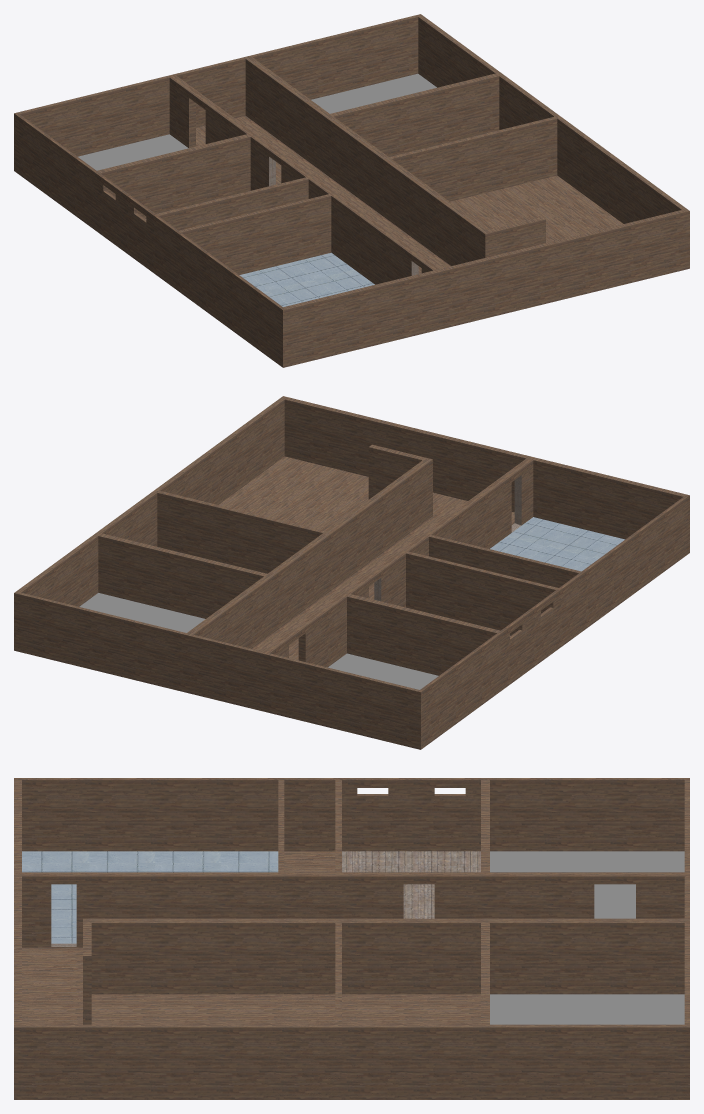
The model's file is housea.FBX.
The picture shows the model from 3 angles, top to bottom: view 1: azimuth 30°, elevation 25°; view 2: azimuth 150°, elevation 25°; view 3: azimuth 270°, elevation 25°; orthographic projection. The views are drawn at different scales.
Parts seen in each view (by area): view 1: Box001; view 2: Box001; view 3: Box001.
Part boxes in pixels (box(x1,y1,x2,y2)): Box001: box(14, 14, 689, 367); Box001: box(14, 396, 689, 749); Box001: box(14, 778, 689, 1099).
Size of the model in its own units: 1953 by 264 by 2237.
